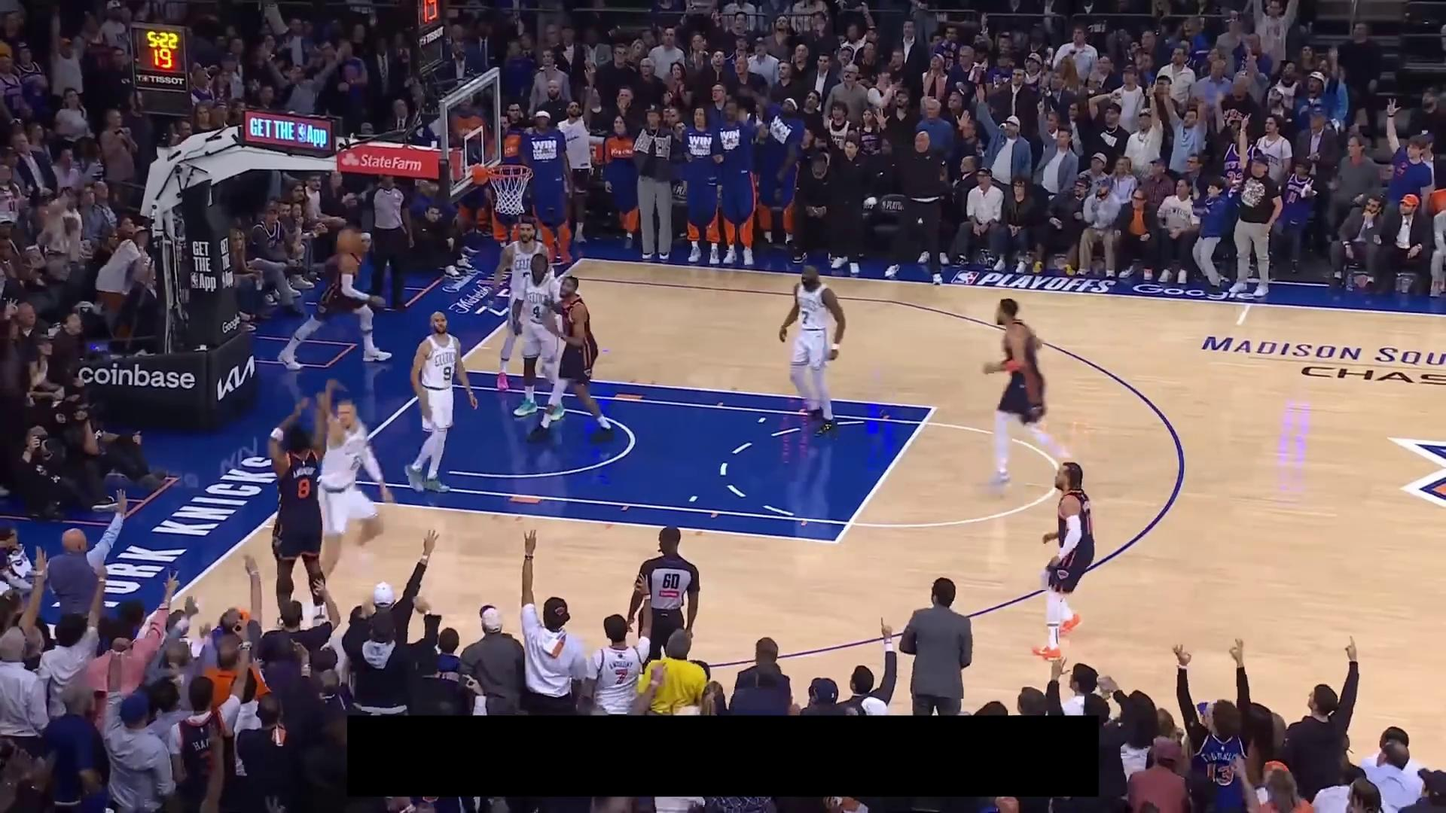ball: (336, 226, 362, 252)
number: (297, 476, 312, 501), (442, 365, 452, 381), (531, 303, 540, 320), (800, 309, 810, 324)
player: (976, 296, 1079, 489), (276, 231, 395, 363), (524, 272, 614, 445), (404, 309, 480, 495), (1028, 461, 1095, 663), (777, 257, 849, 436), (486, 212, 553, 393), (508, 248, 566, 422)
player-jump-shot: (266, 377, 337, 629)
player-shot-block: (307, 374, 395, 614)
referee: (624, 525, 700, 671), (360, 173, 419, 311)
rim: (488, 163, 535, 181)
